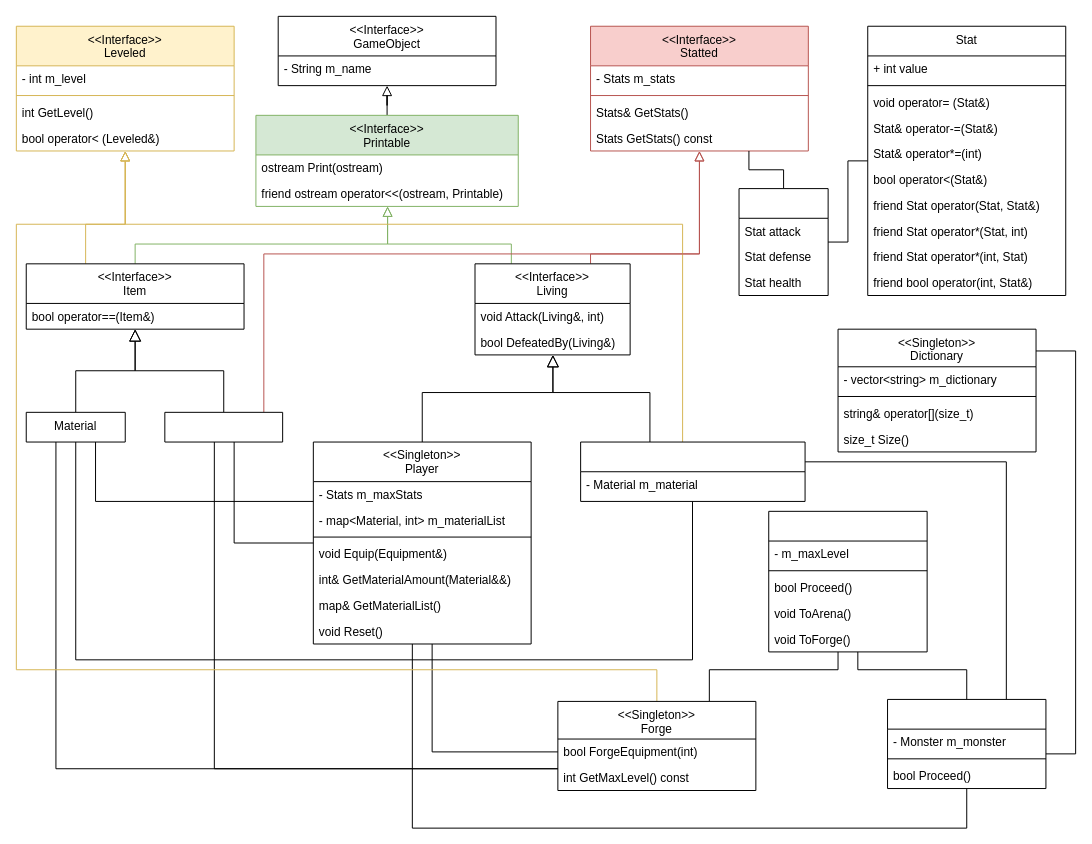
This 1092x844 diagram has some shape labels left out. Here are the shapes that lost their labels. From the top down, the box of each, then its label:
(738, 188, 828, 296): Stats
(164, 411, 283, 442): Equipment
(580, 441, 805, 501): Monster
(768, 510, 927, 652): MainMenu
(887, 698, 1046, 789): Arena
